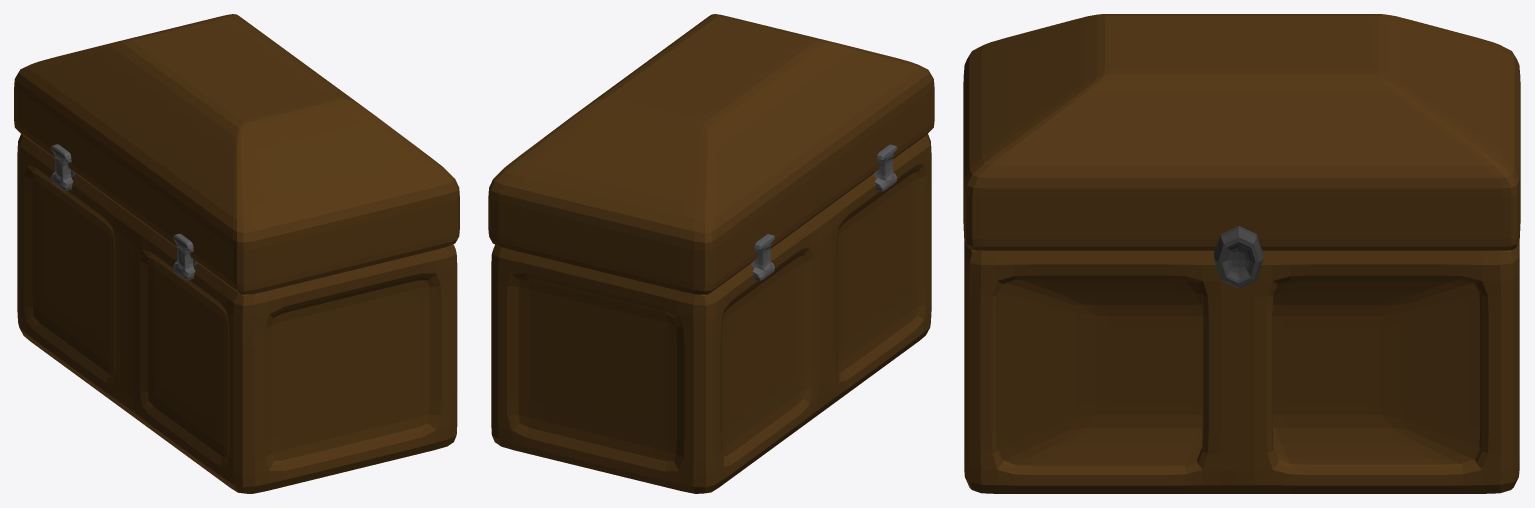
Rendered from chest.fbx.
3 views of the same model, side by side, from view 1: azimuth 30°, elevation 25°; view 2: azimuth 150°, elevation 25°; view 3: azimuth 270°, elevation 25° (orthographic). The views are drawn at different scales.
Visible parts, largest first — view 1: Cube, Cube.001, Куб.002, Куб.001; view 2: Cube, Cube.001, Куб.001, Куб.002; view 3: Cube, Cube.001, Куб.
Part boxes in pixels (left/top/right/bottom): Cube: left=17, top=134, right=457, bottom=493; Cube.001: left=14, top=14, right=459, bottom=294; Куб.002: left=173, top=233, right=197, bottom=280; Куб.001: left=51, top=144, right=75, bottom=190; Cube: left=491, top=134, right=931, bottom=493; Cube.001: left=488, top=14, right=934, bottom=294; Куб.001: left=750, top=234, right=774, bottom=280; Куб.002: left=872, top=144, right=897, bottom=191; Cube: left=964, top=239, right=1519, bottom=493; Cube.001: left=963, top=14, right=1520, bottom=250; Куб: left=1214, top=226, right=1263, bottom=288.
Bounding box in the file's own units: 216 × 276 × 356.
